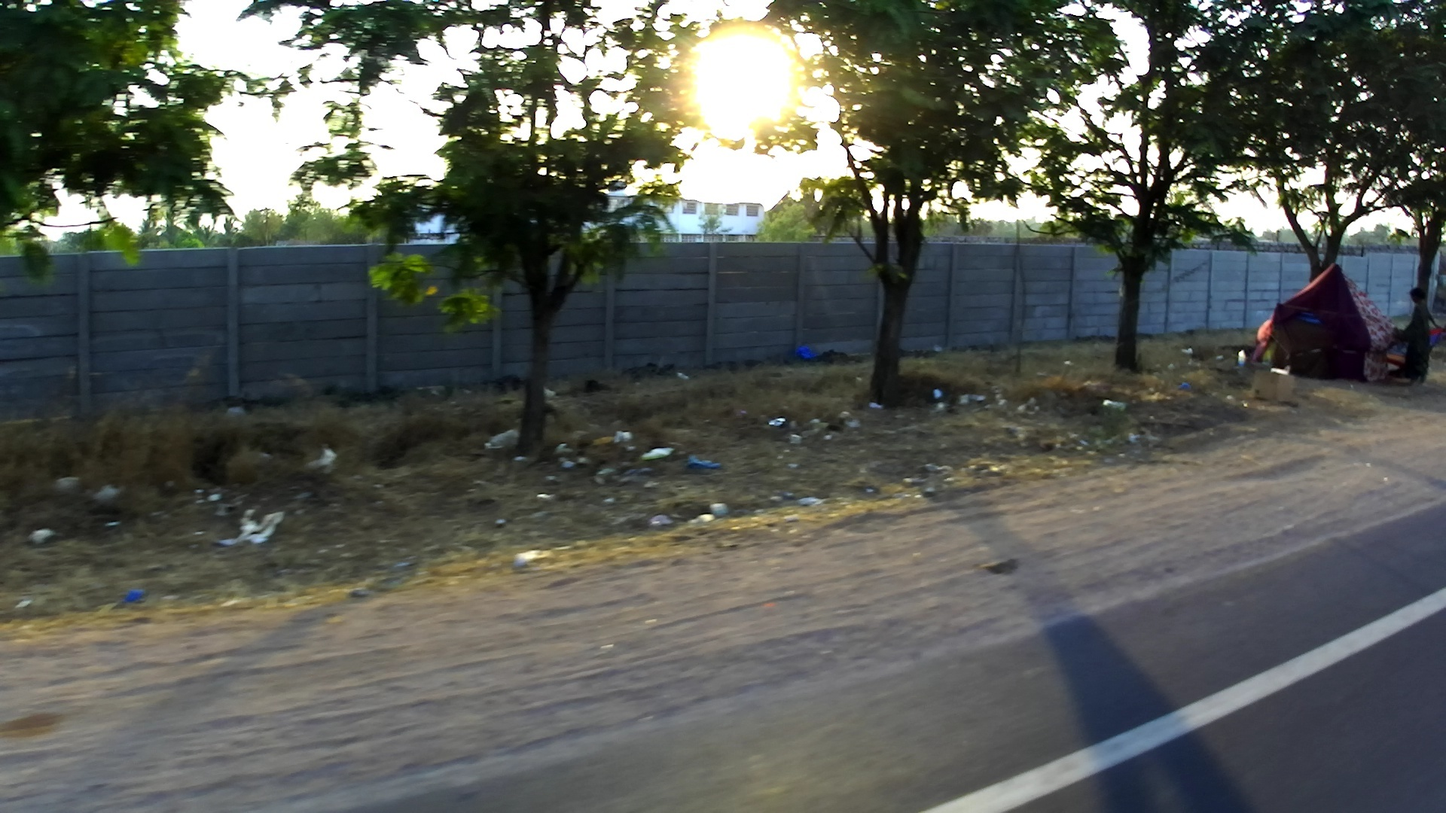person: (1388, 287, 1435, 393)
